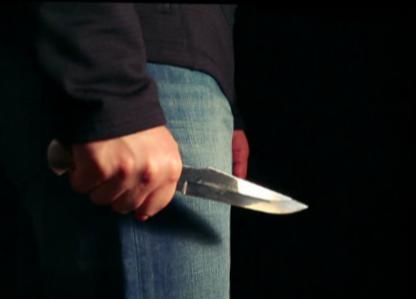knife: (132, 145, 325, 225)
